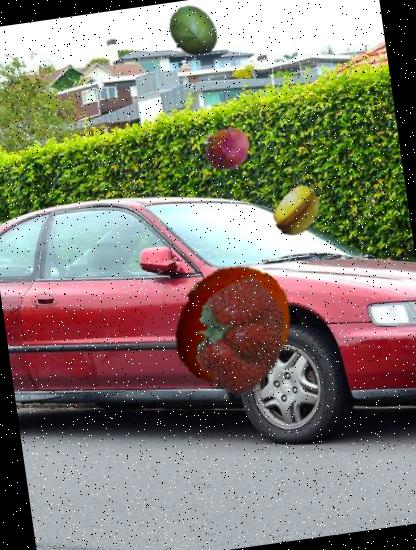Apricot: (161, 254, 303, 396)
Carambula: (268, 180, 328, 241)
Mango: (162, 1, 224, 62)
Onion: (196, 119, 254, 177)
Strawberry: (175, 268, 306, 400)
